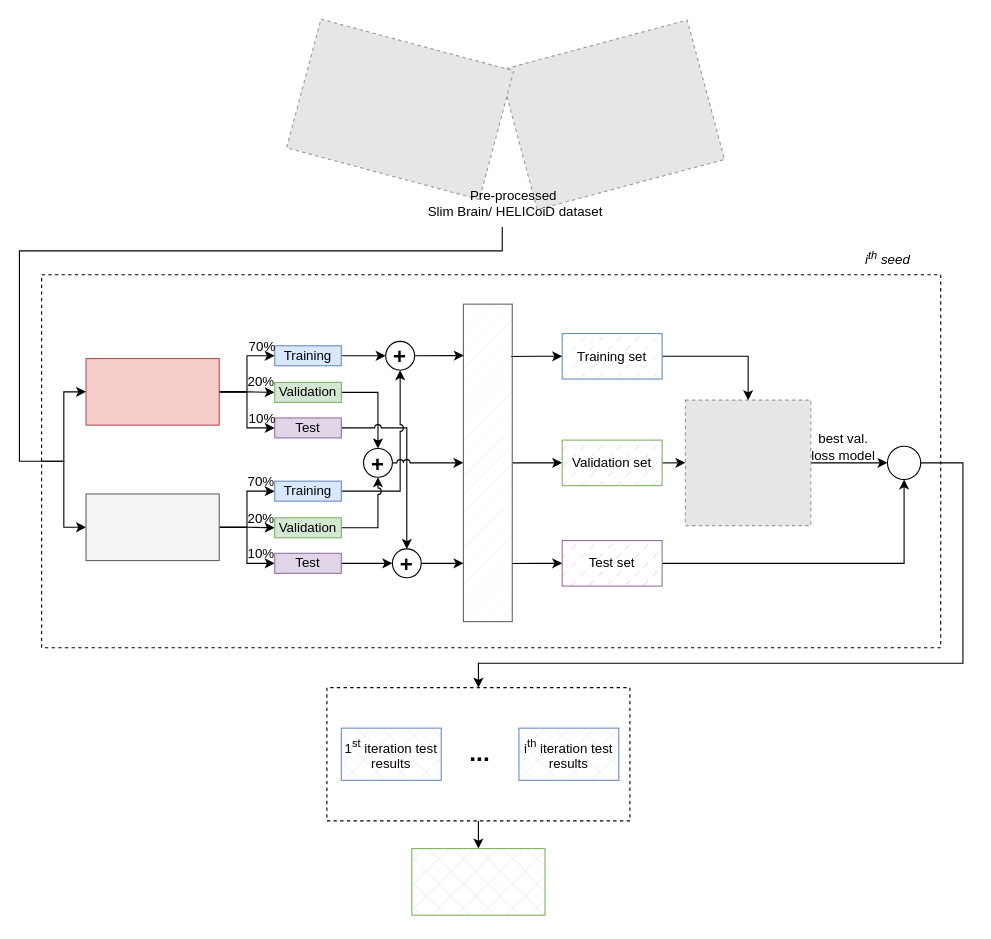
This 991x939 diagram has some shape labels left out. Grey dashed boxes stand in for pictures. The shapes that lost their labels are listed below. From the top down, each one's centre as x and y in pixels, then its label:
(152,391): Images w/ tumor
(487,462): min-max normalization
(152,527): Images w/o tumor
(478,881): Mean and standard deviation for all the evaluation metrics
